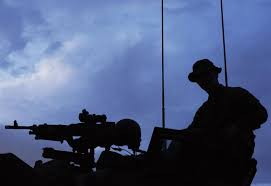gun: (4, 108, 144, 154)
